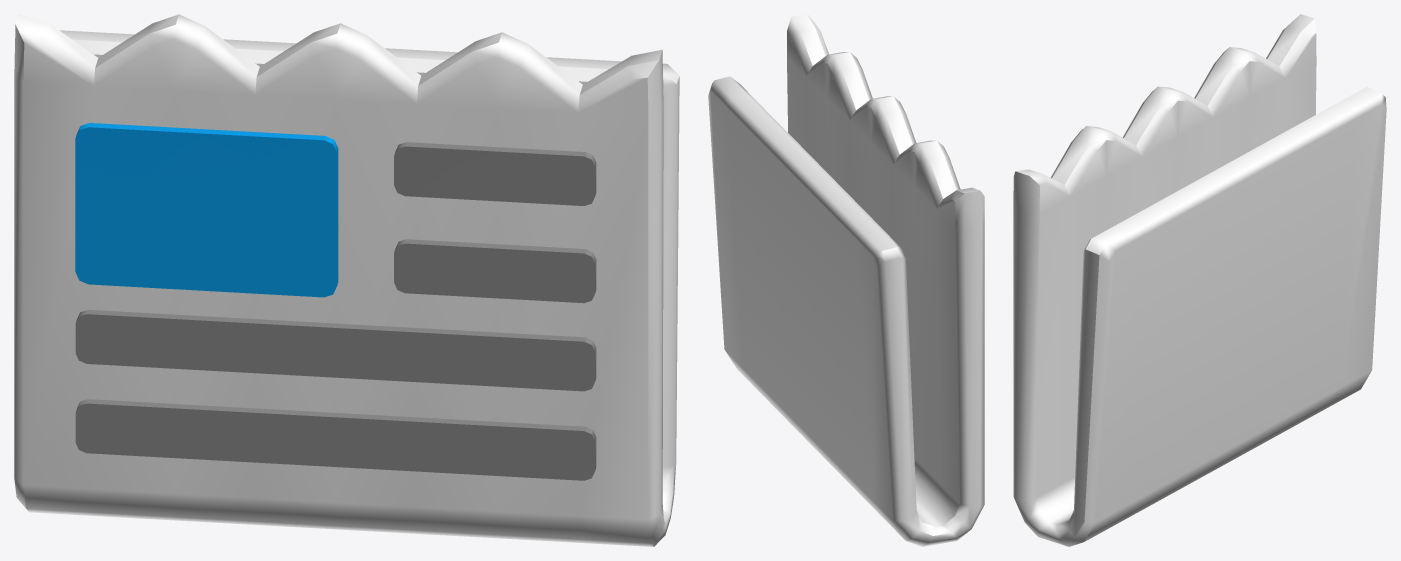
The picture shows the model from 3 angles, left to right: view 1: azimuth 30°, elevation 25°; view 2: azimuth 150°, elevation 25°; view 3: azimuth 270°, elevation 25°; orthographic projection. The views are drawn at different scales.
Parts seen in each view (by area): view 1: model_0.030; view 2: model_0.030; view 3: model_0.030.
Boxes of the visible parts, x1,y1,x2,y2 form: model_0.030: (14,14,679,546); model_0.030: (708,14,984,546); model_0.030: (1013,14,1386,546).
Size of the model in its own units: 3.59 by 3.33 by 3.06.
